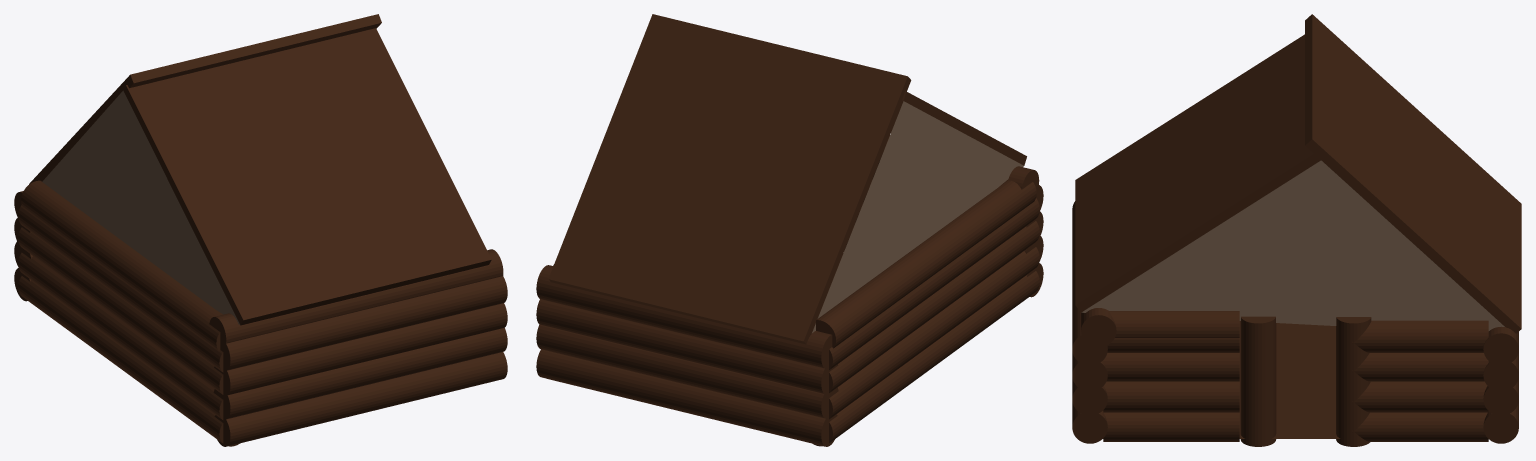
File: logCabin.fbx
3 views of the same model, side by side, from view 1: azimuth 30°, elevation 25°; view 2: azimuth 150°, elevation 25°; view 3: azimuth 270°, elevation 25° (orthographic). The views are drawn at different scales.
Parts seen in each view (by area): view 1: Cube.001, Cube.000; view 2: Cube.001, Cube.000; view 3: Cube.001, Cube.000.
Part boxes in pixels (<box>): Cube.001: <box>29,14,491,325</box>; Cube.000: <box>14,93,507,446</box>; Cube.001: <box>548,14,1026,445</box>; Cube.000: <box>536,102,1043,446</box>; Cube.001: <box>1075,14,1521,438</box>; Cube.000: <box>1072,201,1518,446</box>.
Bounding box in the file's own units: 1131 × 1126 × 1517.
